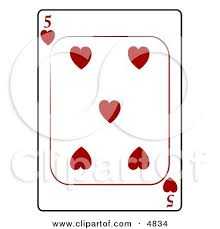five of hearts: (38, 10, 180, 211)
